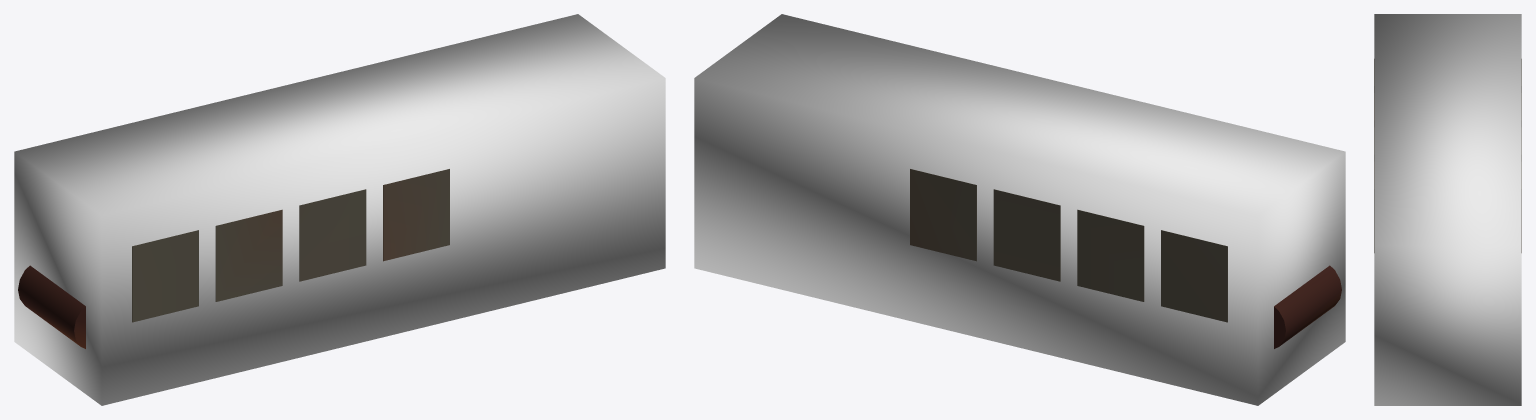
Rendered from bombero.glb.
The picture shows the model from 3 angles, left to right: view 1: azimuth 30°, elevation 25°; view 2: azimuth 150°, elevation 25°; view 3: azimuth 270°, elevation 25°; orthographic projection. The views are drawn at different scales.
Parts seen in each view (by area): view 1: bombero-colcaja, bombero; view 2: bombero-colcaja, bombero; view 3: bombero-colcaja, bombero.
Part boxes in pixels (<box>): bombero-colcaja: <box>14,14,665,405</box>; bombero: <box>18,169,449,348</box>; bombero-colcaja: <box>694,14,1345,405</box>; bombero: <box>910,169,1341,348</box>; bombero-colcaja: <box>1374,14,1521,405</box>; bombero: <box>1374,59,1521,252</box>.
Bounding box in the file's own units: 9.5 × 3 × 2.51.
